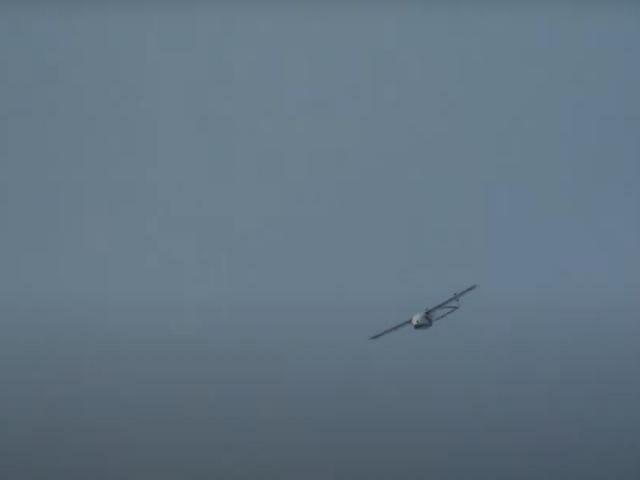iha: (370, 285, 478, 340)
